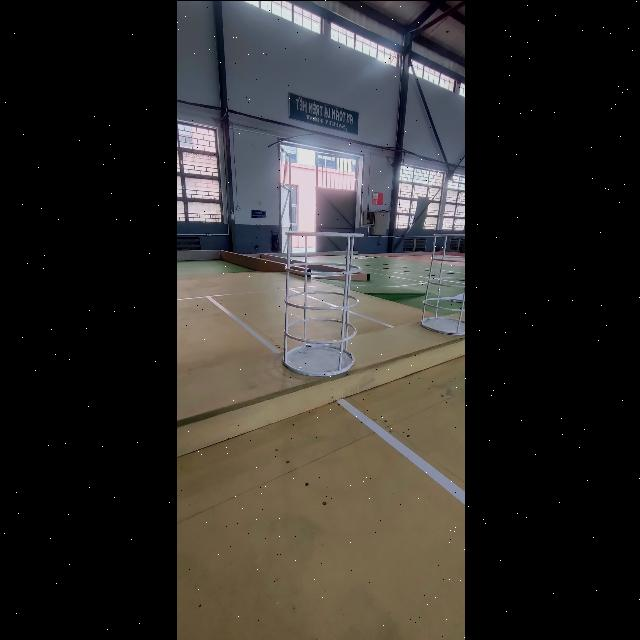S: (280, 230, 364, 376), (418, 232, 464, 336)
